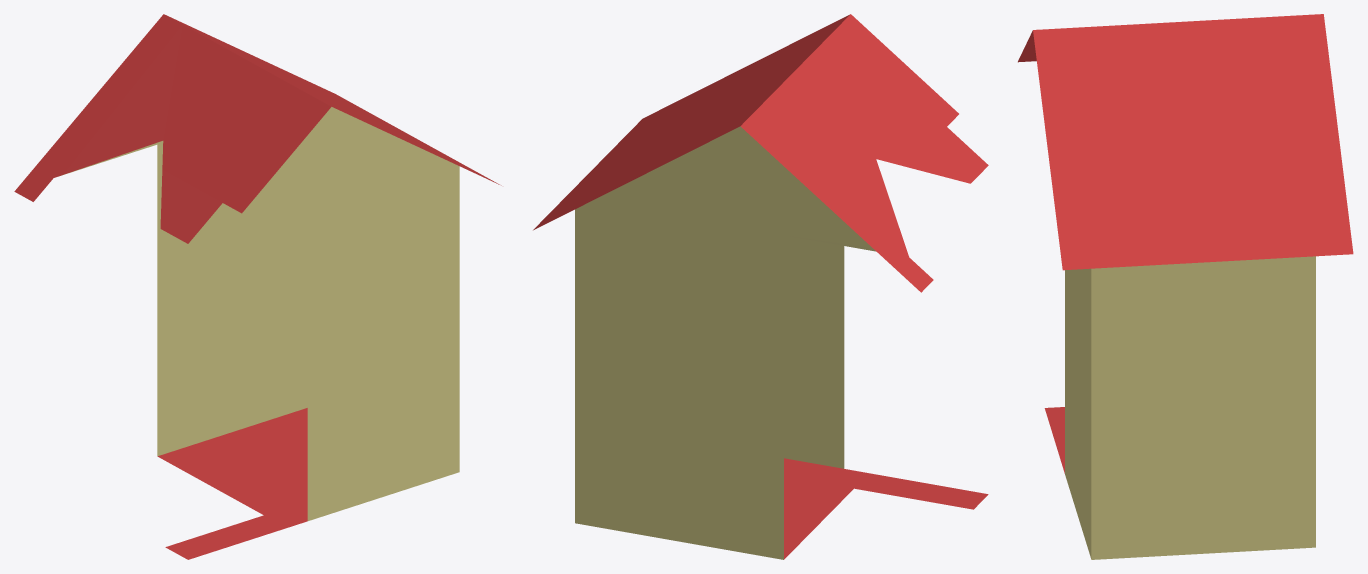
The picture shows the model from 3 angles, left to right: view 1: azimuth 30°, elevation 25°; view 2: azimuth 150°, elevation 25°; view 3: azimuth 270°, elevation 25°; orthographic projection. The views are drawn at different scales.
Bounding box in the file's own units: 13.89 × 10.06 × 14.85.
